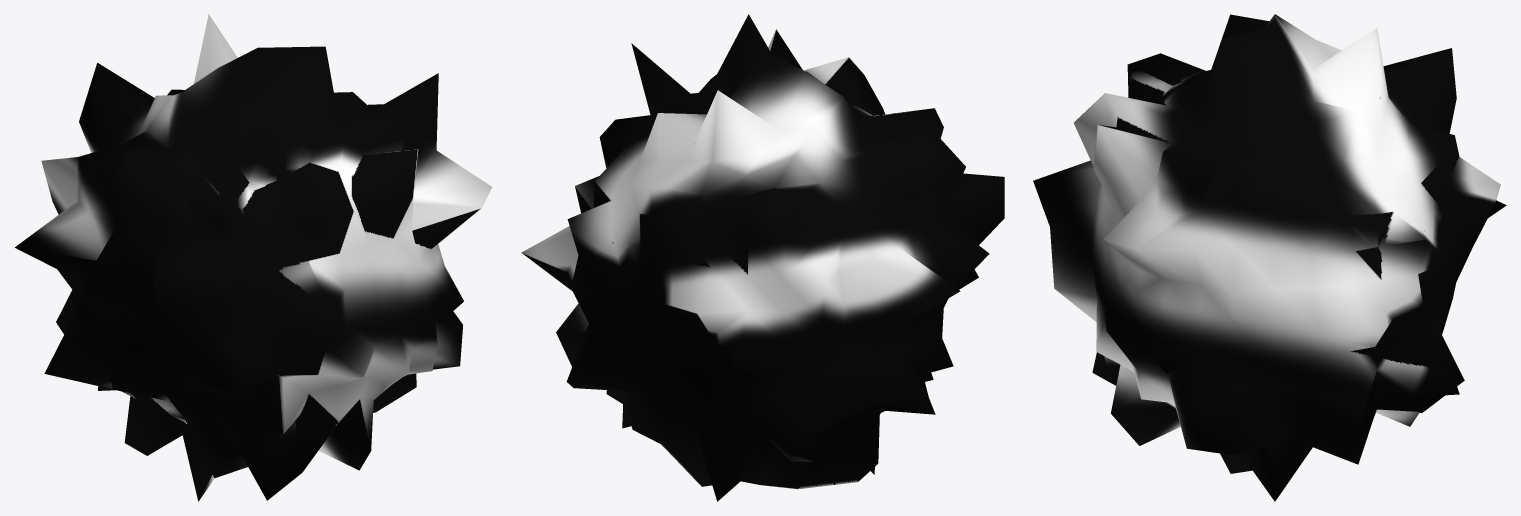
Rendered from cube destroyed.gltf.
The picture shows the model from 3 angles, left to right: view 1: azimuth 30°, elevation 25°; view 2: azimuth 150°, elevation 25°; view 3: azimuth 270°, elevation 25°; orthographic projection. The views are drawn at different scales.
Parts seen in each view (by area): view 1: Cube; view 2: Cube; view 3: Cube.
Boxes of the visible parts, x1,y1,x2,y2 form: Cube: [15, 14, 492, 501]; Cube: [521, 14, 1004, 501]; Cube: [1033, 14, 1506, 501].
Size of the model in its own units: 1.73 by 1.7 by 1.64.
Materials: 1 (1 with a texture image).
